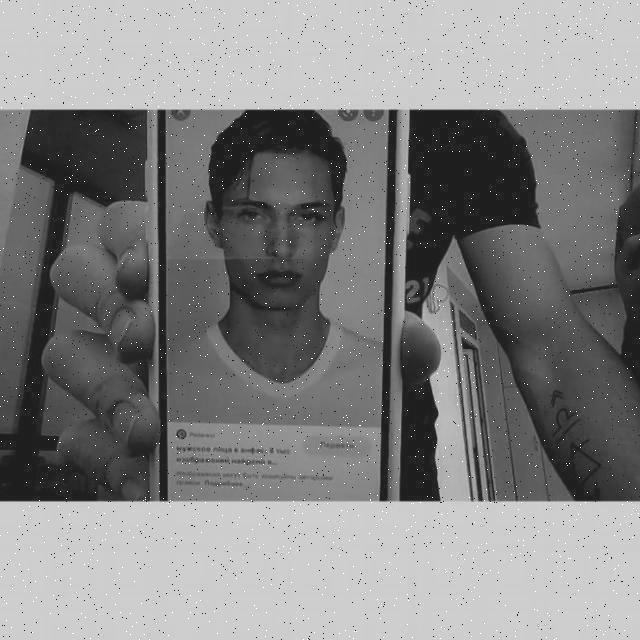fake: (139, 110, 419, 500)
